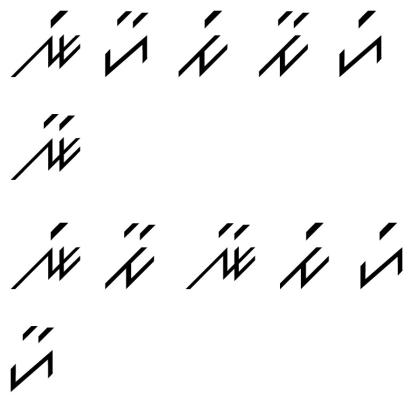han: (102, 7, 153, 81), (8, 324, 59, 394)
hang: (352, 216, 415, 294), (332, 6, 392, 80)
mban: (100, 218, 162, 292), (256, 8, 314, 82)
mbang: (170, 2, 235, 85), (274, 221, 334, 290)
ndan: (184, 217, 259, 295), (13, 110, 88, 182)
ndang: (6, 218, 83, 300), (8, 5, 82, 82)
